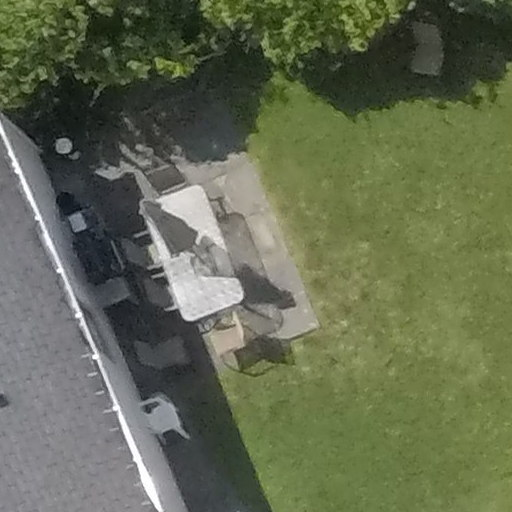chair: (129, 318, 198, 381), (401, 17, 450, 100), (135, 381, 188, 449), (208, 303, 252, 375), (125, 268, 181, 324), (101, 227, 157, 281), (141, 160, 181, 206)
container: (50, 185, 77, 217), (47, 133, 76, 161)
table: (130, 178, 259, 337)
